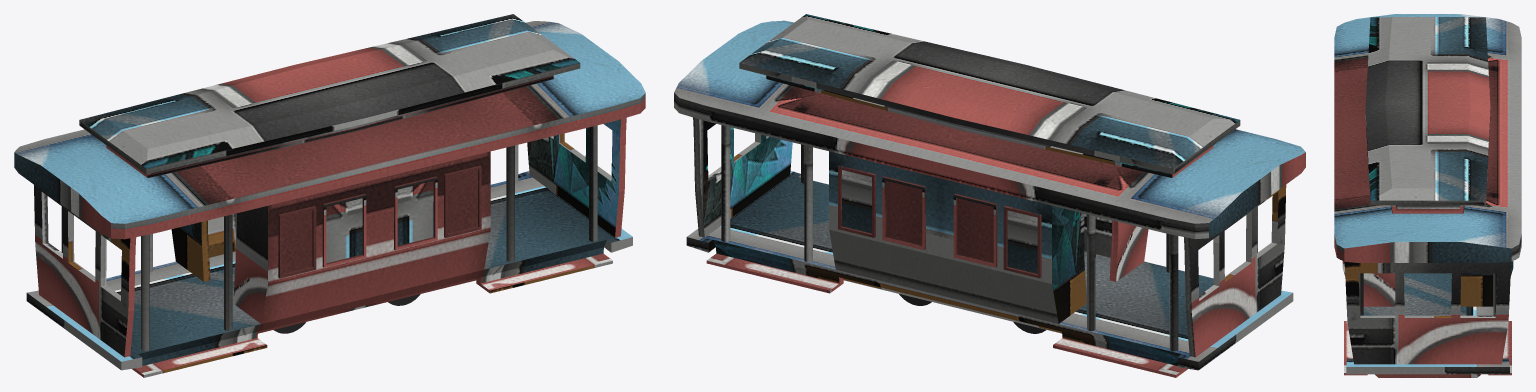
The model's file is Prop_Train 1.FBX.
3 renders of one model, left to right at view 1: azimuth 30°, elevation 25°; view 2: azimuth 150°, elevation 25°; view 3: azimuth 270°, elevation 25°, orthographic. The views are drawn at different scales.
Parts seen in each view (by area): view 1: Box037; view 2: Box037; view 3: Box037.
Boxes of the visible parts, x1=… form: Box037: x1=14, y1=14, x2=645, y2=377; Box037: x1=674, y1=14, x2=1305, y2=377; Box037: x1=1334, y1=14, x2=1521, y2=377.
Size of the model in its own units: 1105 by 419 by 384.
